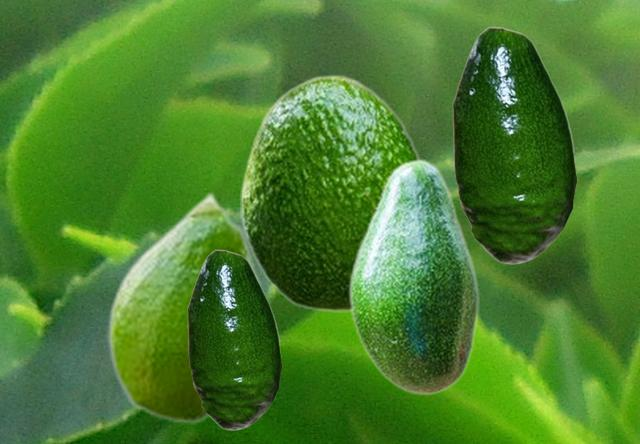avocado: (240, 74, 423, 311), (107, 190, 264, 423), (347, 158, 478, 395), (452, 26, 576, 263), (187, 249, 281, 429)
